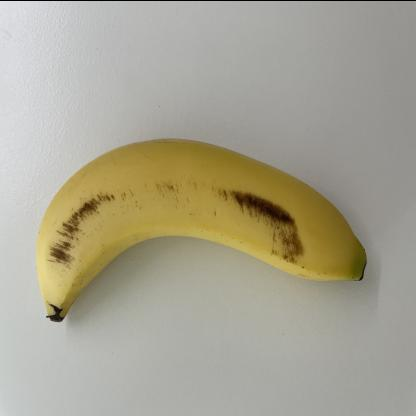banana: (32, 131, 370, 326)
